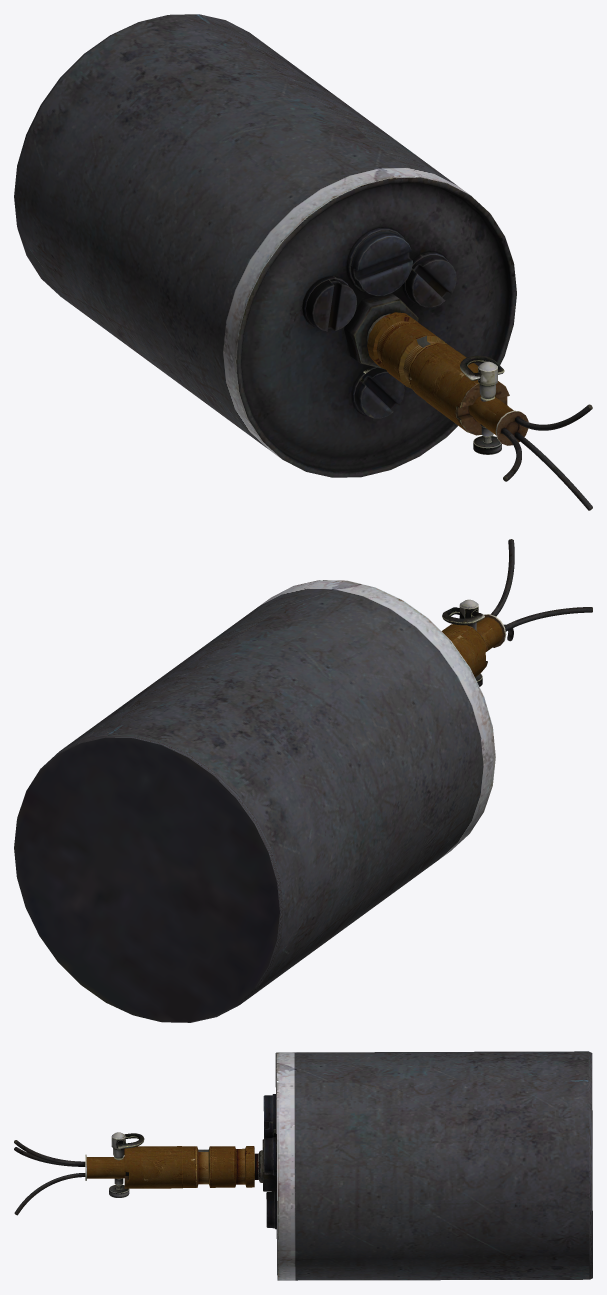
File: viewmodel_bouncing_betty1.obj
3 renders of one model, top to bottom at view 1: azimuth 30°, elevation 25°; view 2: azimuth 150°, elevation 25°; view 3: azimuth 270°, elevation 25°, orthographic. The views are drawn at different scales.
Visible parts, largest first — view 1: TomGroup_2, TomGroup_1; view 2: TomGroup_2, TomGroup_1; view 3: TomGroup_2, TomGroup_1.
Boxes of the visible parts, x1,y1,x2,y2 form: TomGroup_2: (14,14,592,510); TomGroup_1: (460,355,504,442); TomGroup_2: (14,539,592,1022); TomGroup_1: (442,599,484,630); TomGroup_2: (14,1051,592,1280); TomGroup_1: (111,1132,144,1189).
Size of the model in its own units: 14.38 by 14.34 by 36.29.
Materials: 1 (1 with a texture image).
